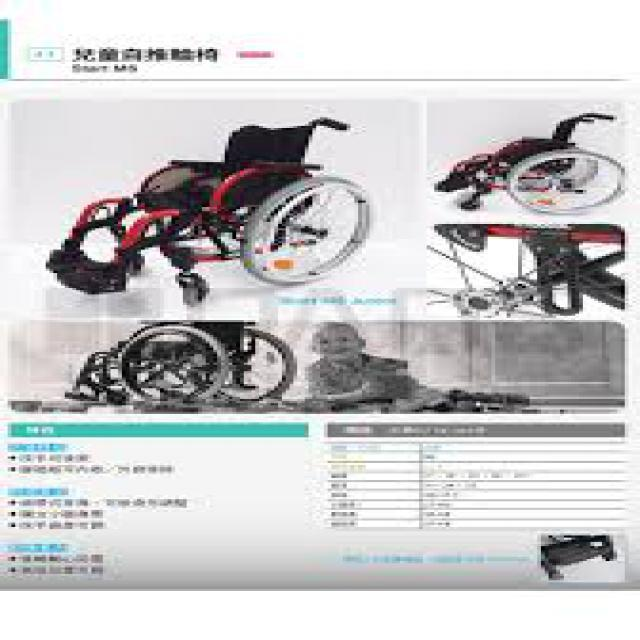wheelchair: (0, 109, 381, 308), (411, 104, 625, 220)
